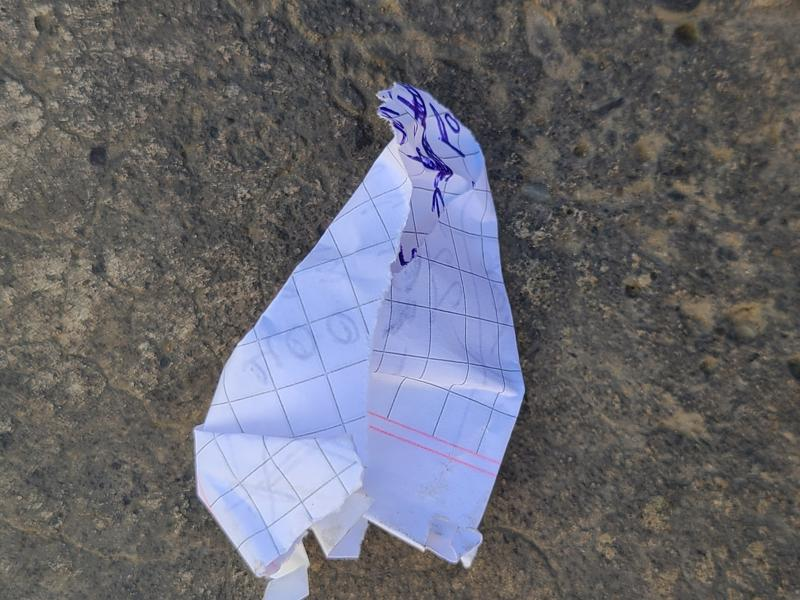papel: (191, 85, 527, 600)
